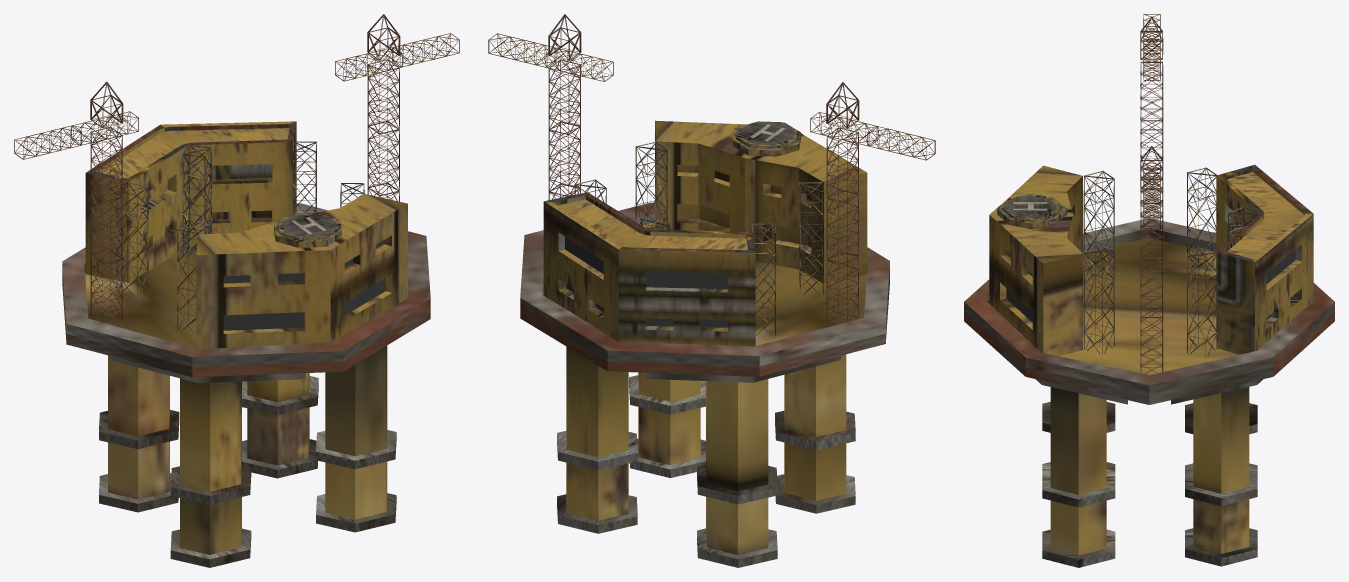
The model's file is oilRig.obj.
3 views of the same model, side by side, from view 1: azimuth 30°, elevation 25°; view 2: azimuth 150°, elevation 25°; view 3: azimuth 270°, elevation 25° (orthographic). The views are drawn at different scales.
Parts seen in each view (by area): view 1: OilRig; view 2: OilRig; view 3: OilRig.
Part boxes in pixels (x1,y1,x2,y2): OilRig: (14, 14, 459, 567); OilRig: (488, 14, 935, 567); OilRig: (964, 14, 1334, 567).
Bounding box in the file's own units: 20.62 × 20.55 × 15.9.
